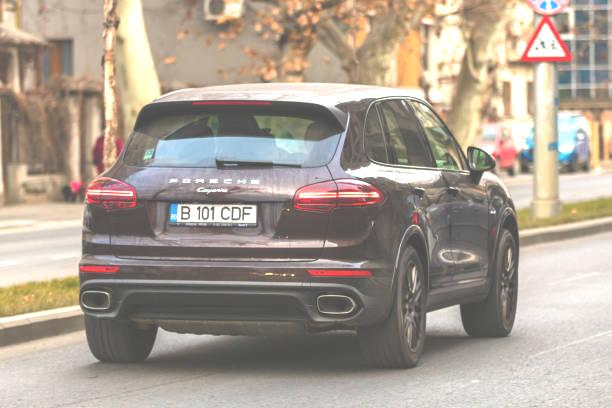porsche: (167, 170, 264, 190)
